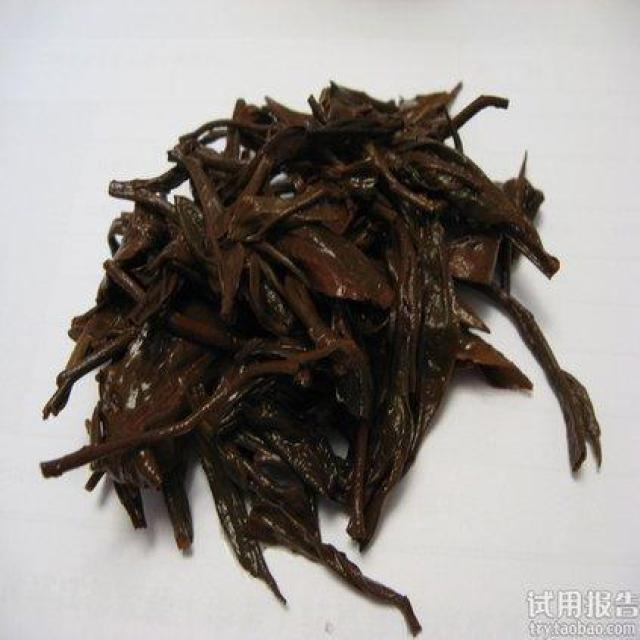organic: (38, 82, 601, 637)
